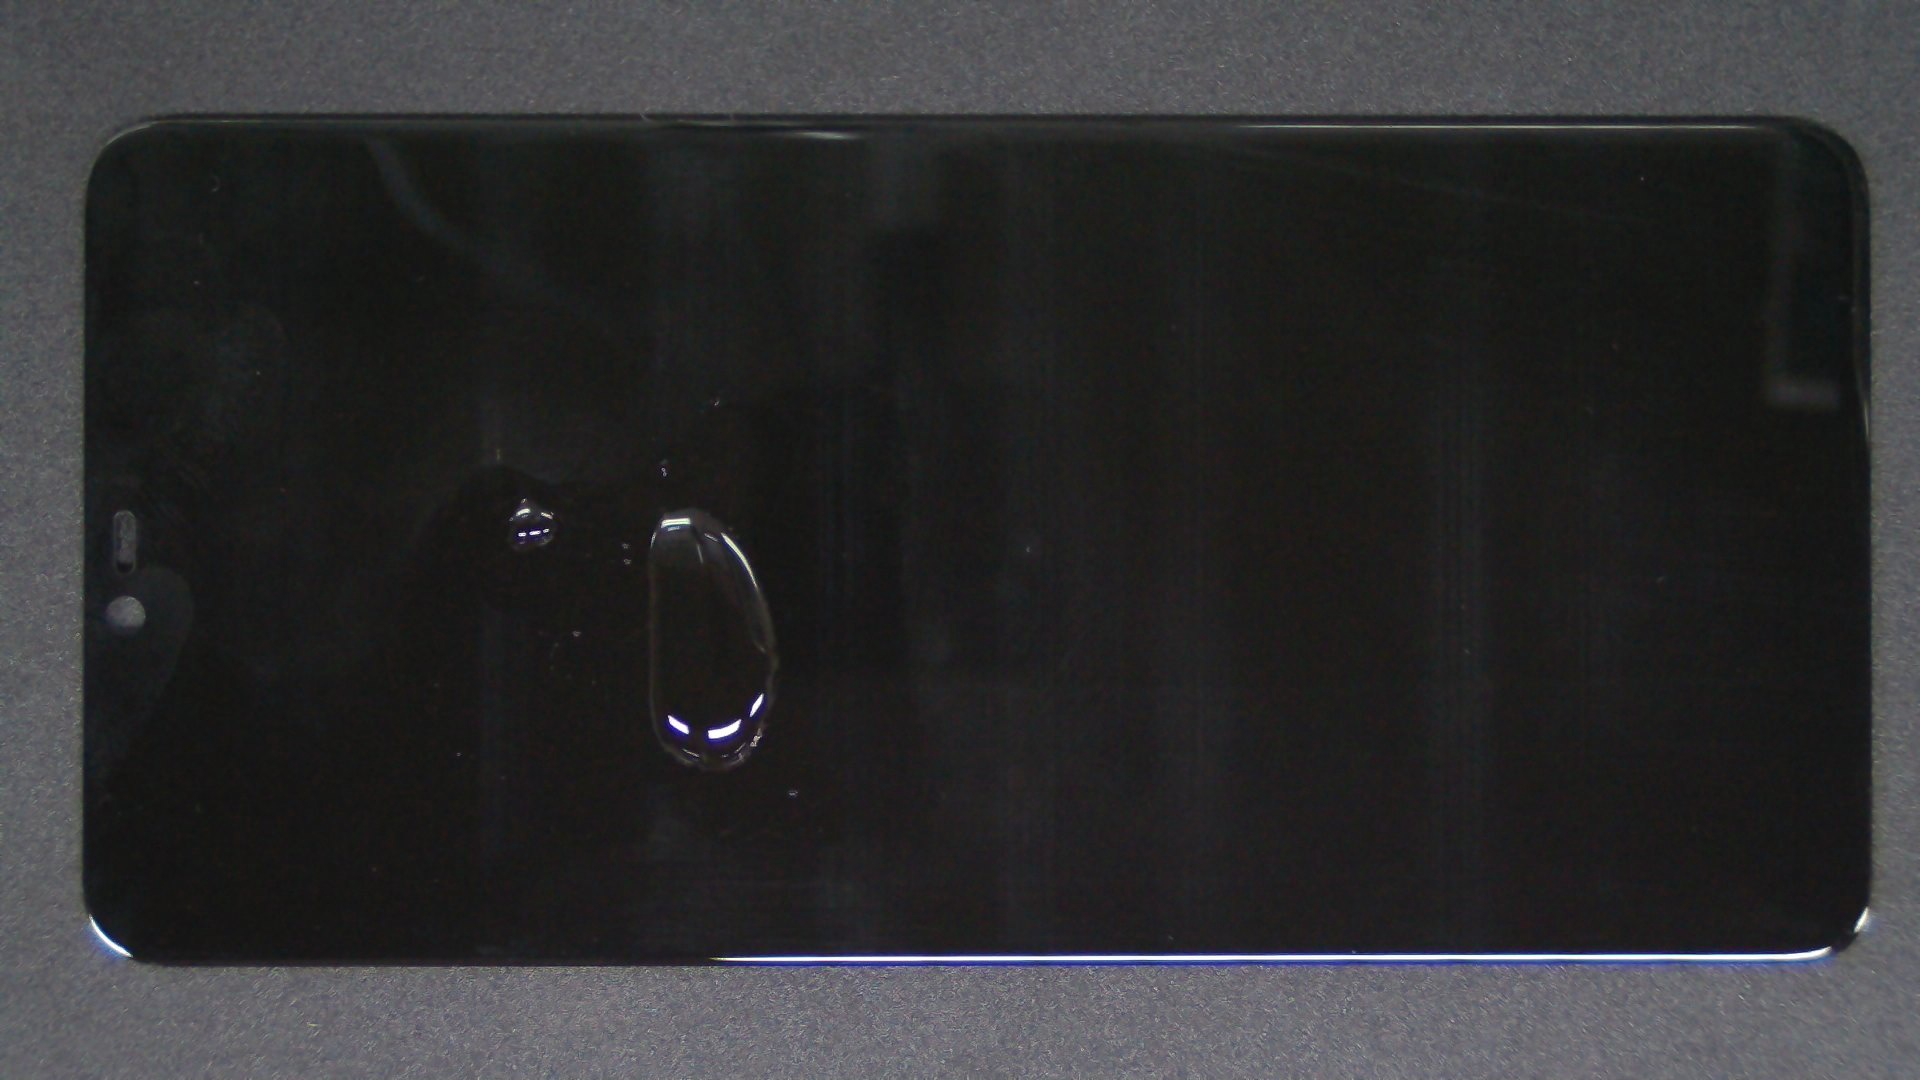oil: (344, 255, 1030, 764), (262, 248, 787, 748)
